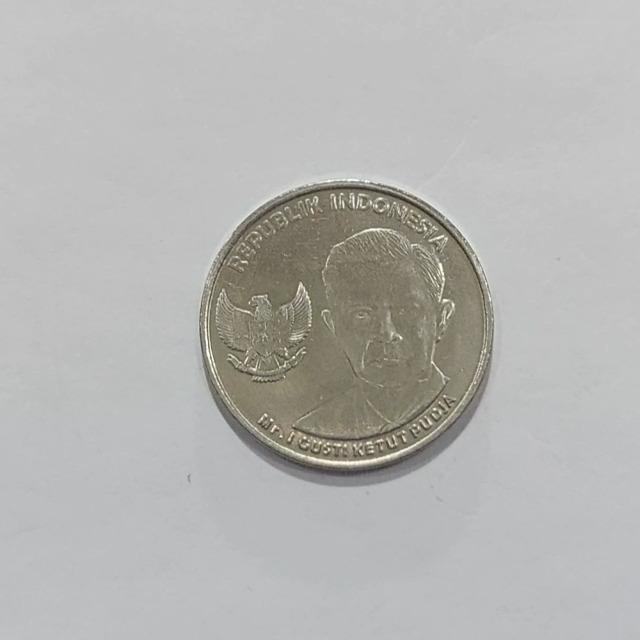Rp100: (198, 177, 495, 474), (289, 224, 458, 442), (211, 279, 314, 383)
